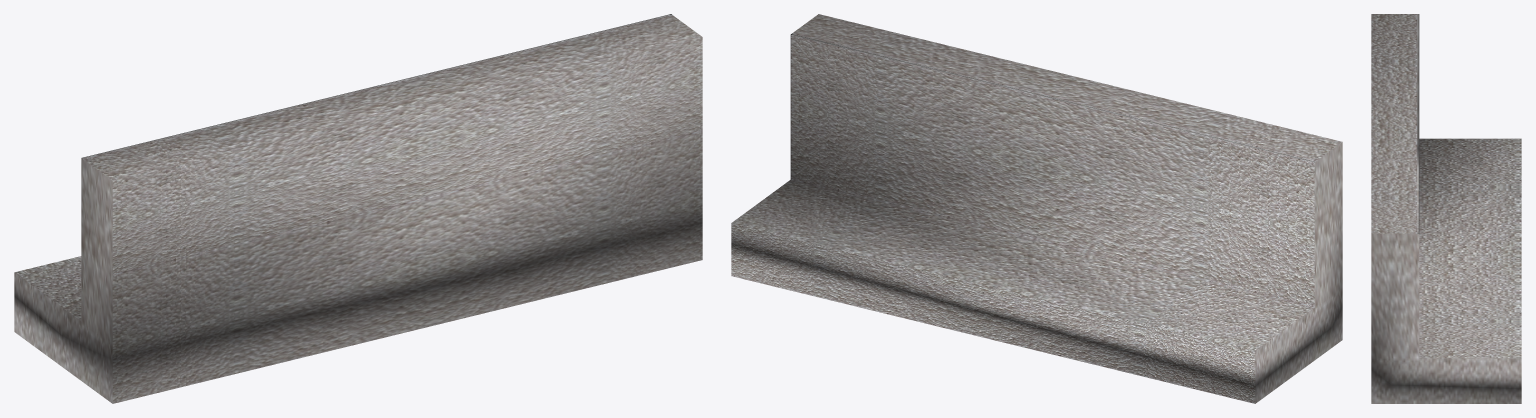
The model's file is seat.fbx.
3 renders of one model, left to right at view 1: azimuth 30°, elevation 25°; view 2: azimuth 150°, elevation 25°; view 3: azimuth 270°, elevation 25°, orthographic. The views are drawn at different scales.
Visible parts, largest first — view 1: Shell; view 2: Shell; view 3: Shell.
Boxes of the visible parts, box(x1,y1,x2,y2) form: Shell: box(14, 14, 702, 403); Shell: box(731, 14, 1342, 403); Shell: box(1371, 14, 1521, 403).
Size of the model in its own units: 1.8 by 0.6515 by 0.5209.
Materials: 1 (1 with a texture image).
